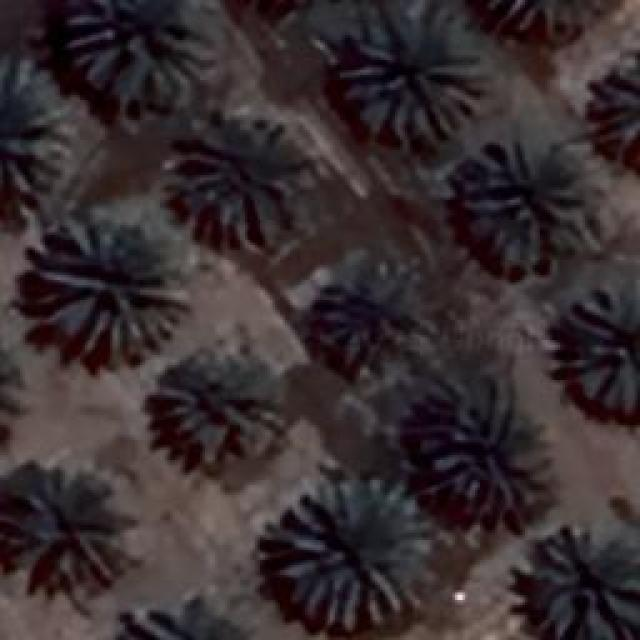PalmTree: (110, 125, 189, 621), (267, 477, 435, 625), (25, 220, 190, 362), (337, 12, 485, 146), (460, 140, 592, 268), (424, 380, 548, 512), (62, 0, 208, 105), (136, 37, 235, 188), (320, 255, 438, 368), (9, 470, 122, 585), (528, 528, 638, 638), (562, 280, 636, 412), (0, 60, 70, 195), (158, 380, 288, 450), (590, 52, 638, 160), (497, 0, 594, 32), (0, 323, 24, 451)
